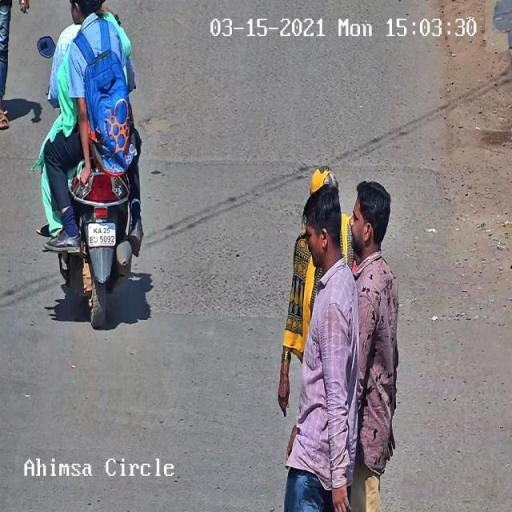tripple riding: (37, 0, 143, 177)
